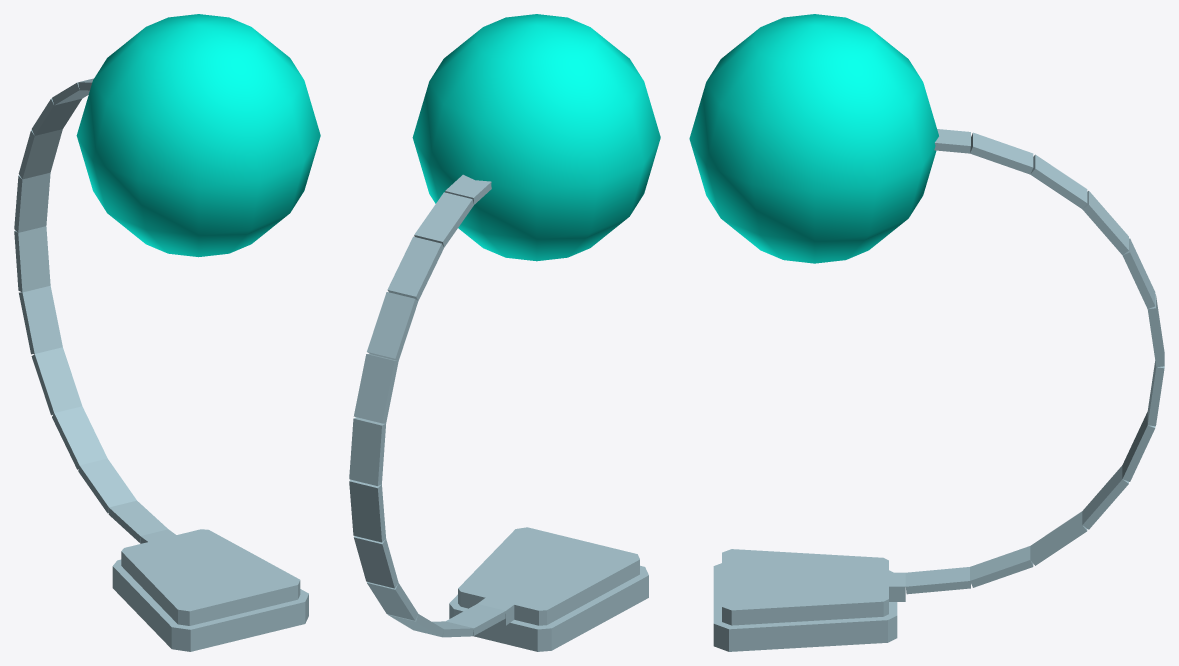
Rendered from lamp-02.fbx.
The picture shows the model from 3 angles, left to right: view 1: azimuth 30°, elevation 25°; view 2: azimuth 150°, elevation 25°; view 3: azimuth 270°, elevation 25°; orthographic projection. The views are drawn at different scales.
Visible parts, largest first — view 1: lamp-02-lamp, lamp-02; view 2: lamp-02-lamp, lamp-02; view 3: lamp-02-lamp, lamp-02.
Part boxes in pixels (box(x1,y1,x2,y2)): lamp-02-lamp: box(76, 14, 320, 257); lamp-02: box(14, 78, 308, 651); lamp-02-lamp: box(412, 14, 660, 261); lamp-02: box(349, 174, 648, 651); lamp-02-lamp: box(689, 14, 938, 263); lamp-02: box(713, 129, 1164, 651).
Size of the model in its own units: 30.01 by 78.26 by 56.9.
